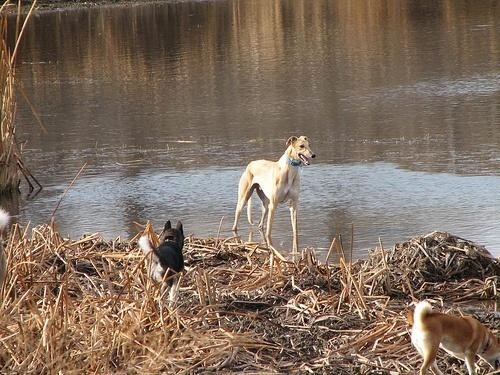dog: (234, 133, 320, 268), (407, 301, 500, 375), (136, 214, 196, 311)
